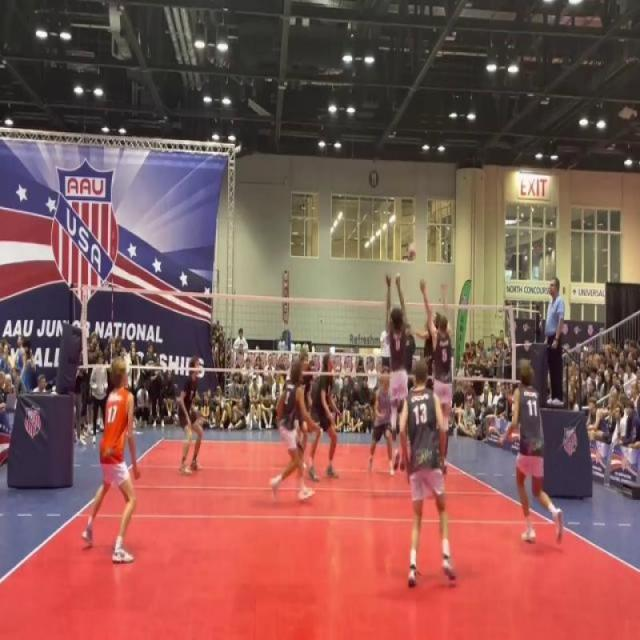volleyball: (405, 242, 418, 263)
